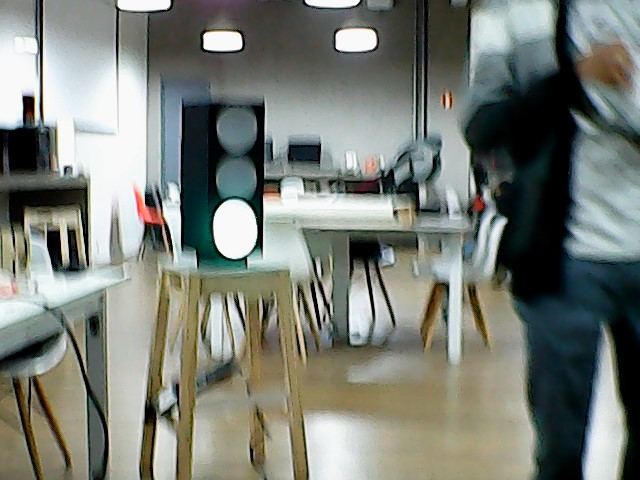verde: (174, 97, 270, 274)
